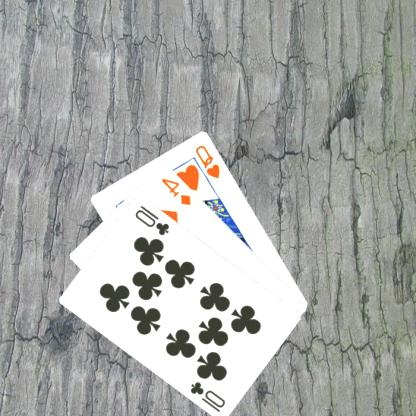10C: (189, 378, 229, 413), (134, 202, 173, 237)
4D: (160, 175, 194, 206)
QH: (194, 142, 224, 180)
